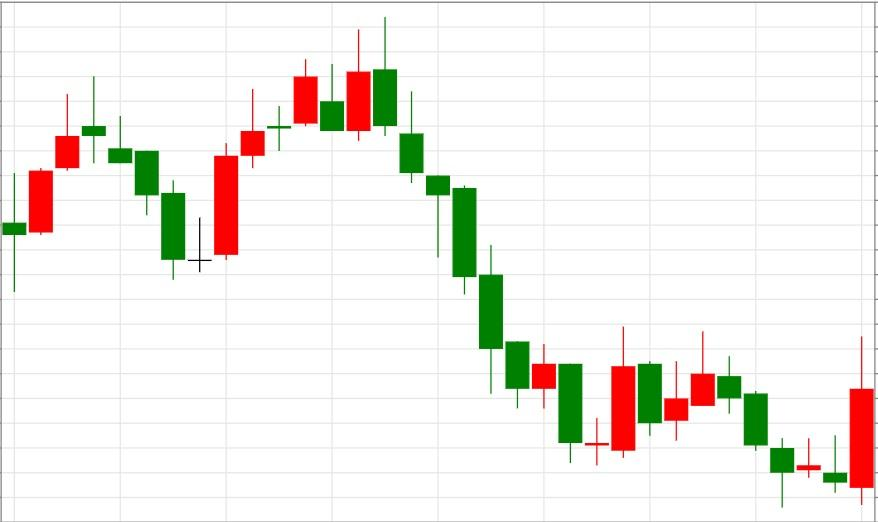morning_star_rise: (372, 16, 636, 467), (81, 76, 239, 279)
